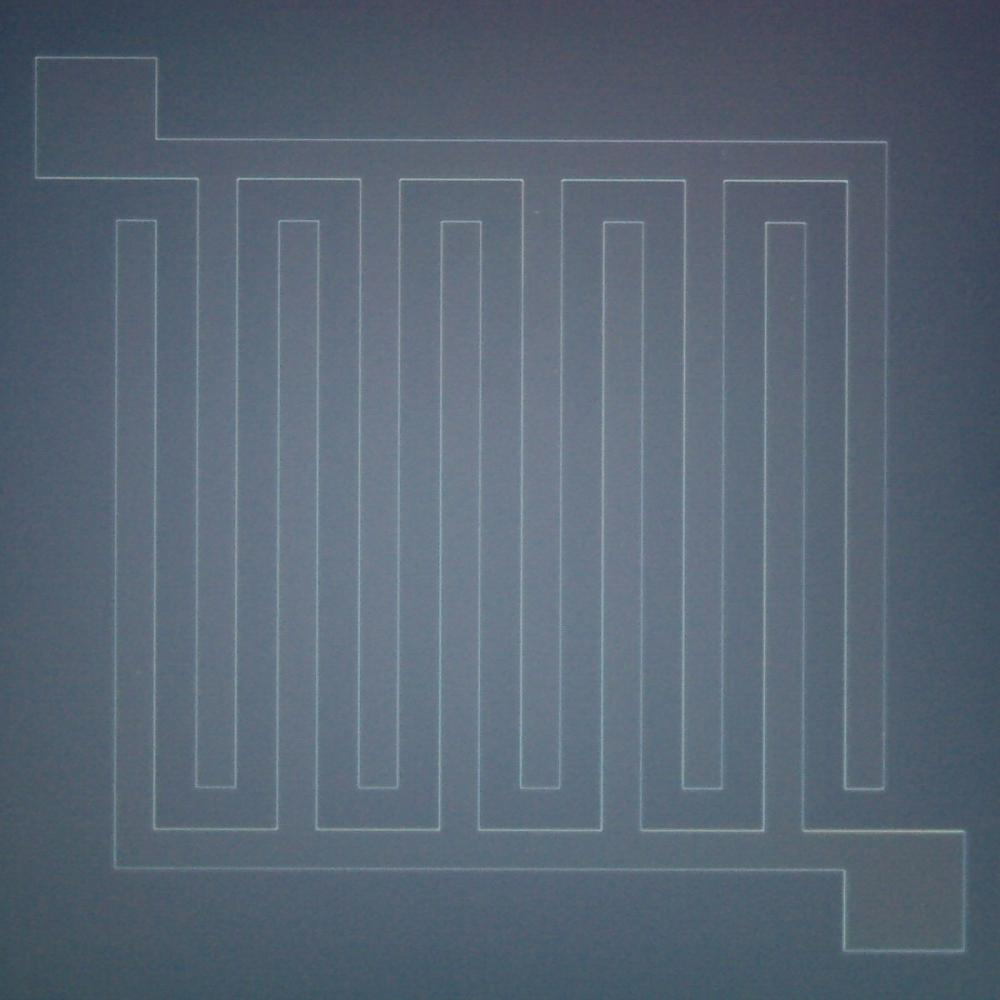dot: (535, 210, 539, 214)
